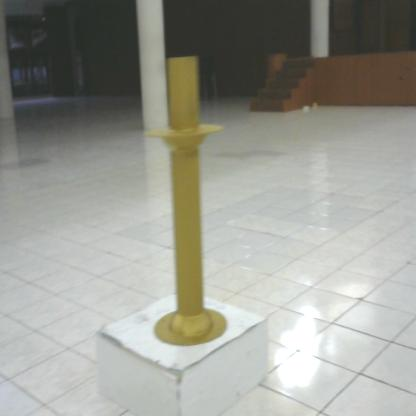pole: (138, 42, 242, 360)
